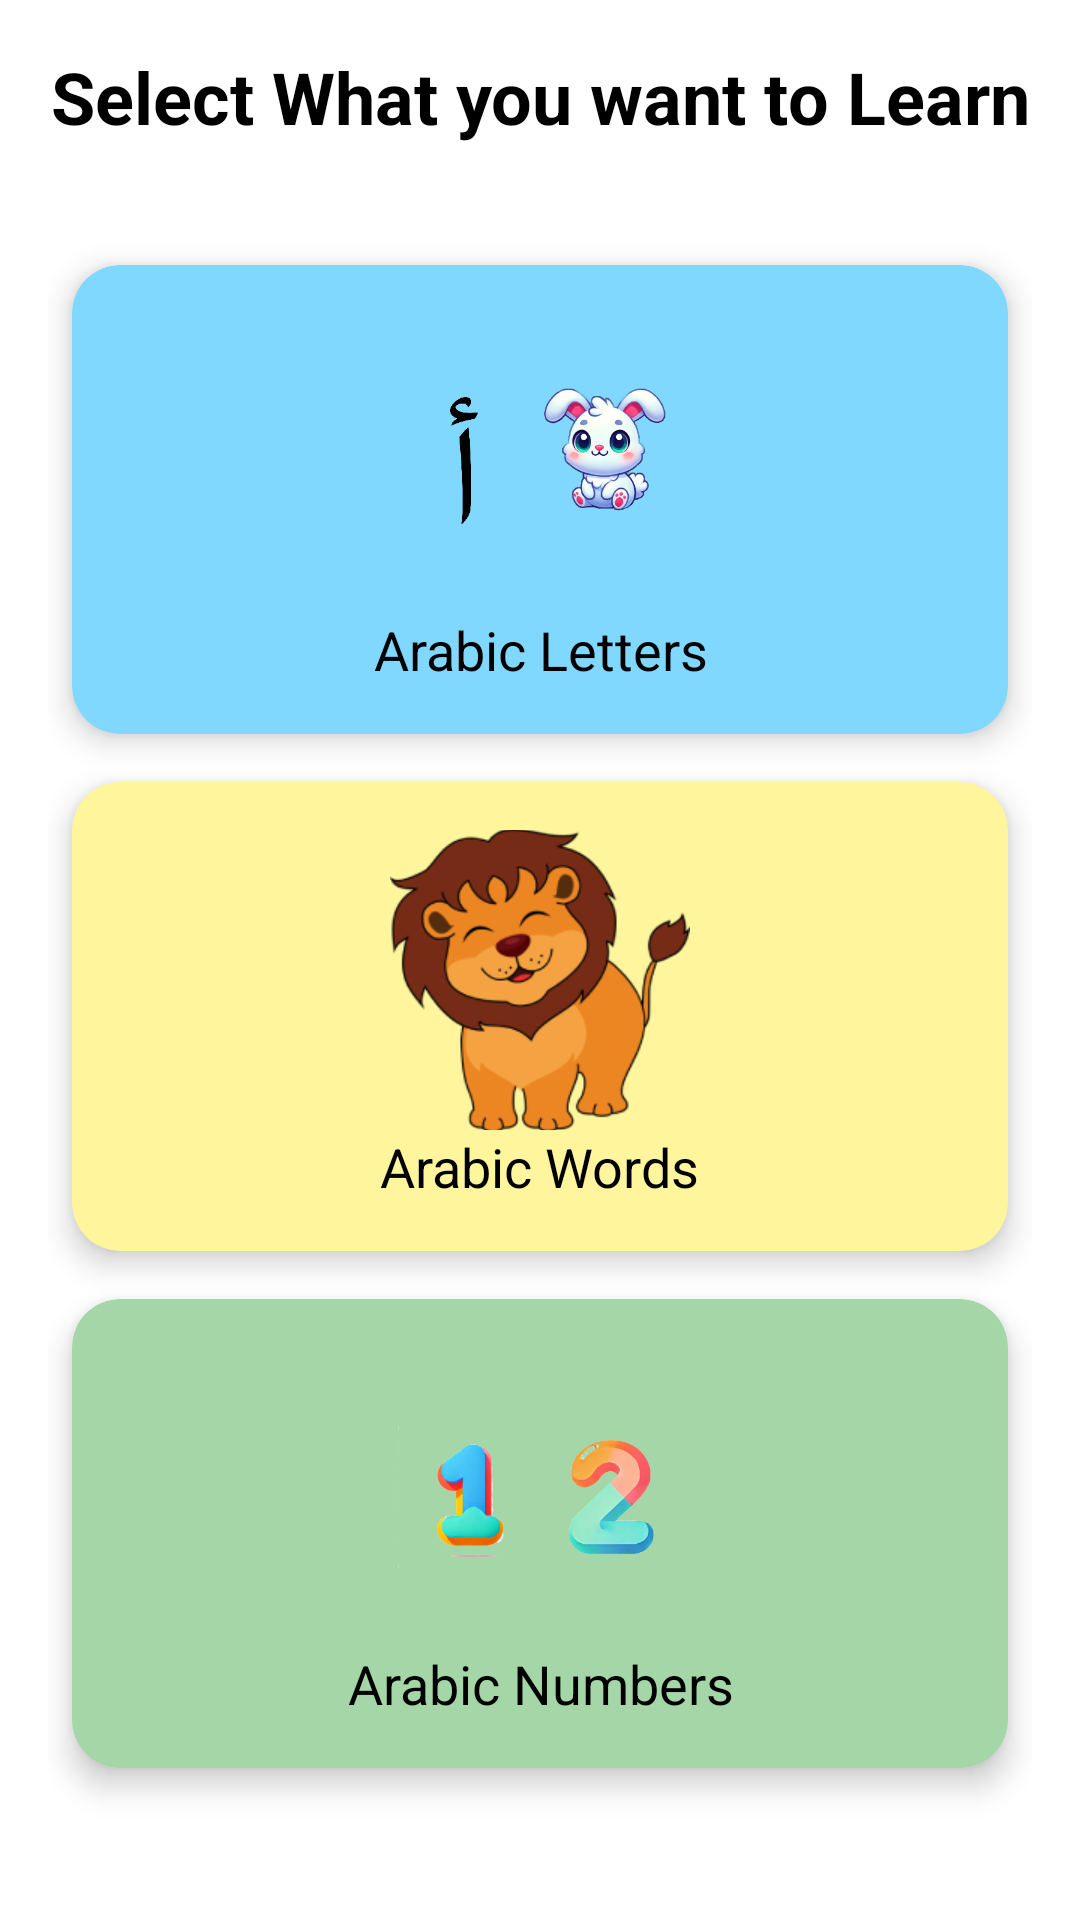

Named icons in this screenshot (1080px×1920px) and their bounding boxes, (x1, y1, x2, y2):
en numbers: (398, 1426, 654, 1566)
lion picture: (390, 830, 690, 1130)
